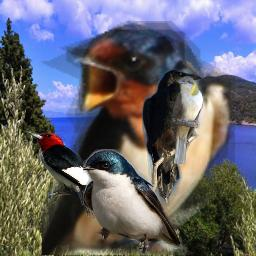Crow: (142, 69, 204, 207)
Cuckoo: (171, 76, 203, 164)
Swallow: (42, 21, 235, 255), (83, 149, 183, 255)
Woodpecker: (25, 131, 107, 220)
